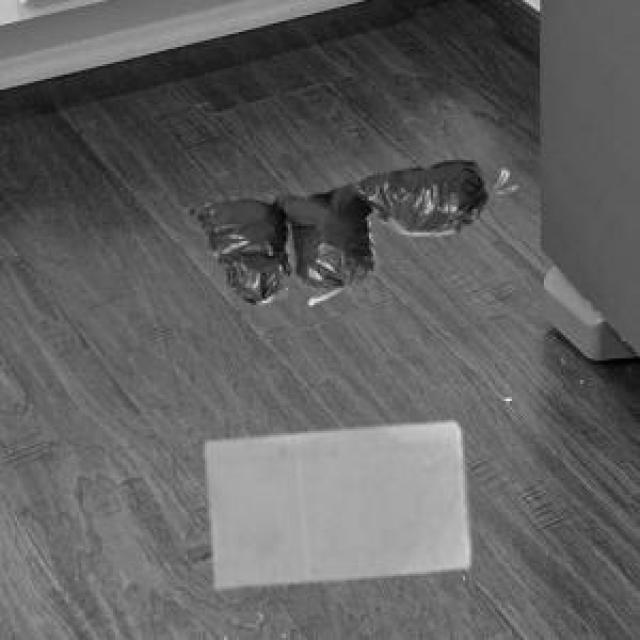miscellaneous trash: (182, 158, 484, 301)
paper: (203, 419, 465, 582)
